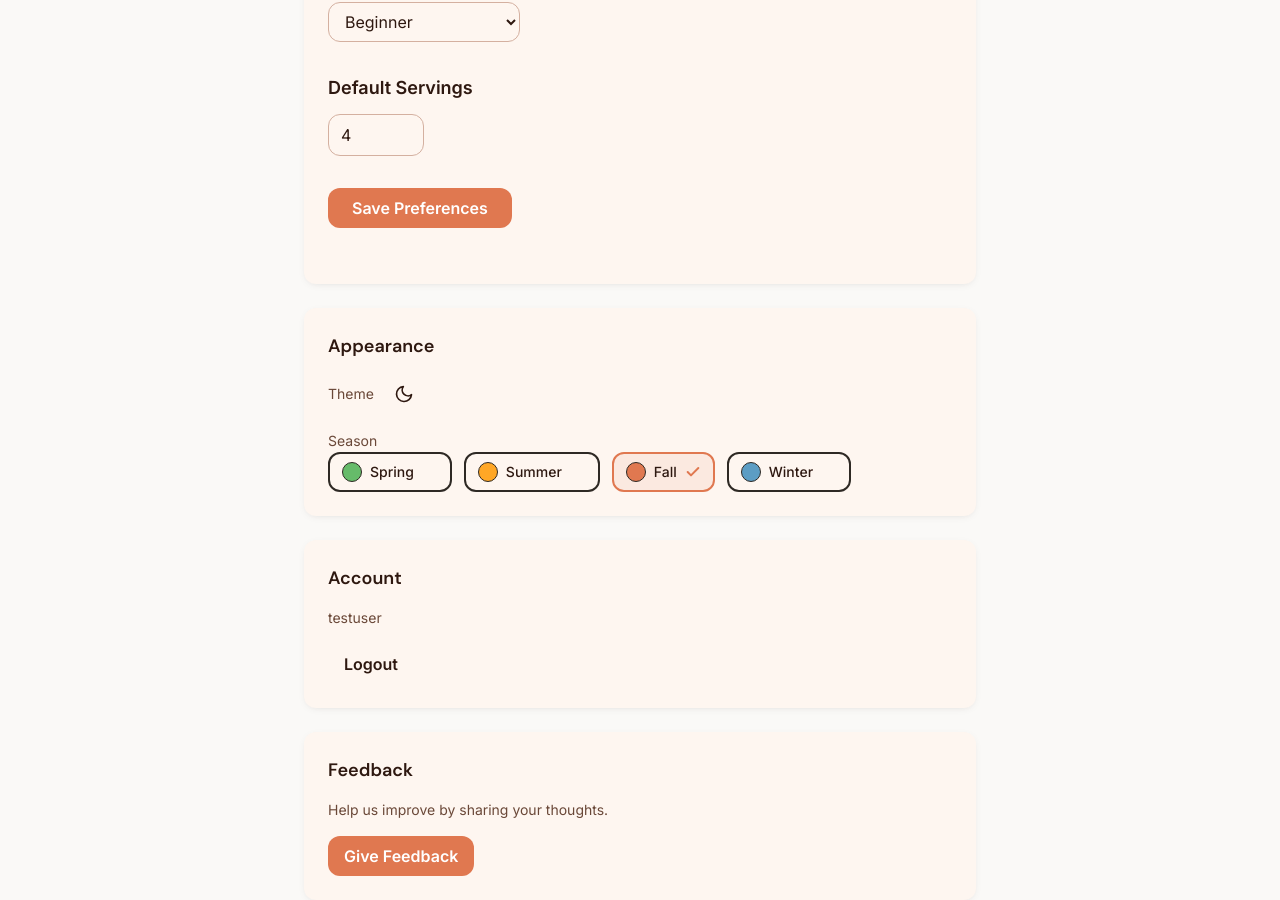
Scenario: SettingsPage › Feature: Feedback section on settings page (mobile) › should open the feedback modal when the feedback button is clicked
(page scrolled)
expect the heading "Feedback" is shown: met, box x1=328 y1=758 x2=413 y2=782
Step 1. Click the button "Give Feedback" → click(401, 856), box x1=328 y1=836 x2=474 y2=876
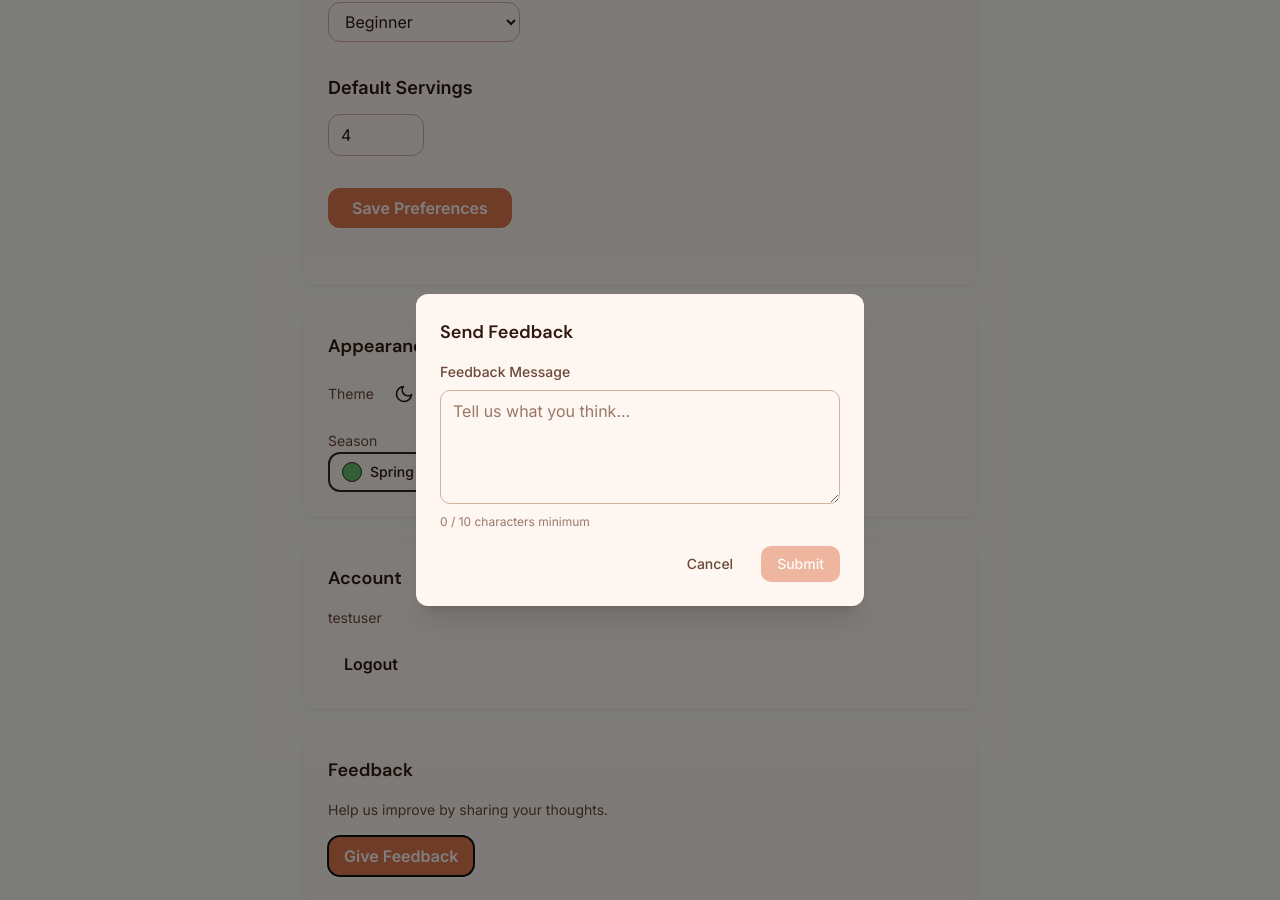
expect the dialog "Feedback" is shown: met
expect the text box labelled "Feedback Message" is shown: met, box x1=440 y1=390 x2=840 y2=504
